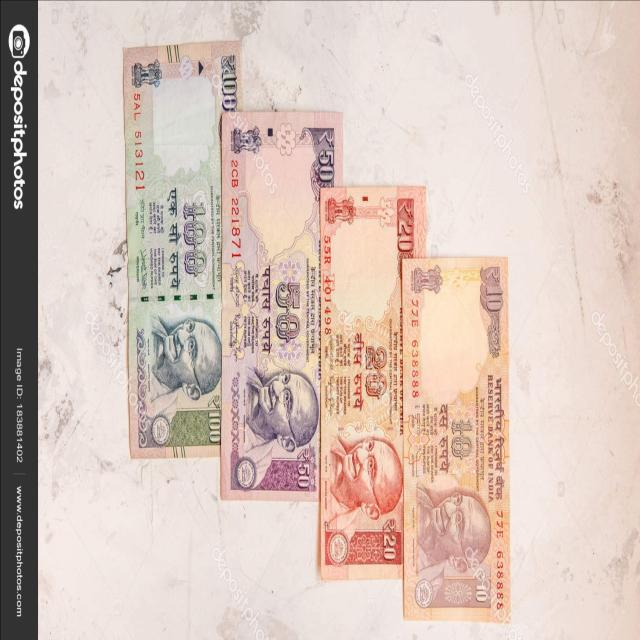20IndianRupees: (321, 182, 428, 579)
